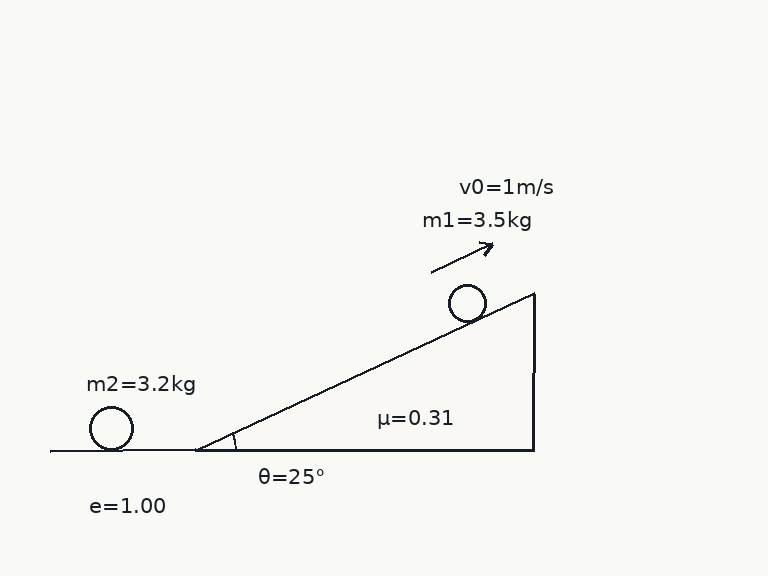ball: (87, 404, 135, 452), (446, 282, 488, 324)
ramp: (194, 290, 536, 452)
